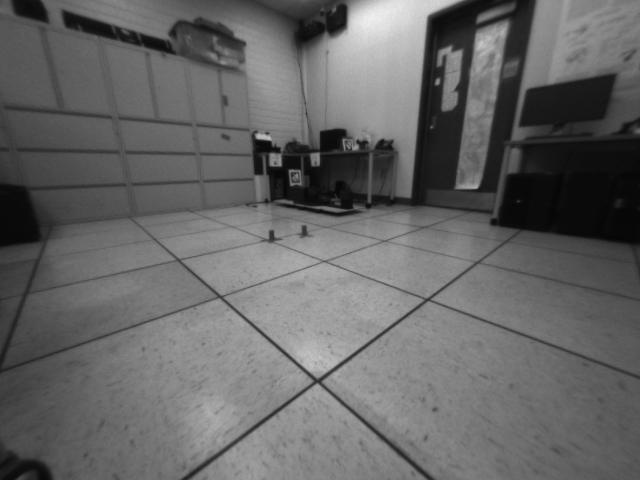X: (261, 227, 283, 244), (293, 223, 314, 240)
